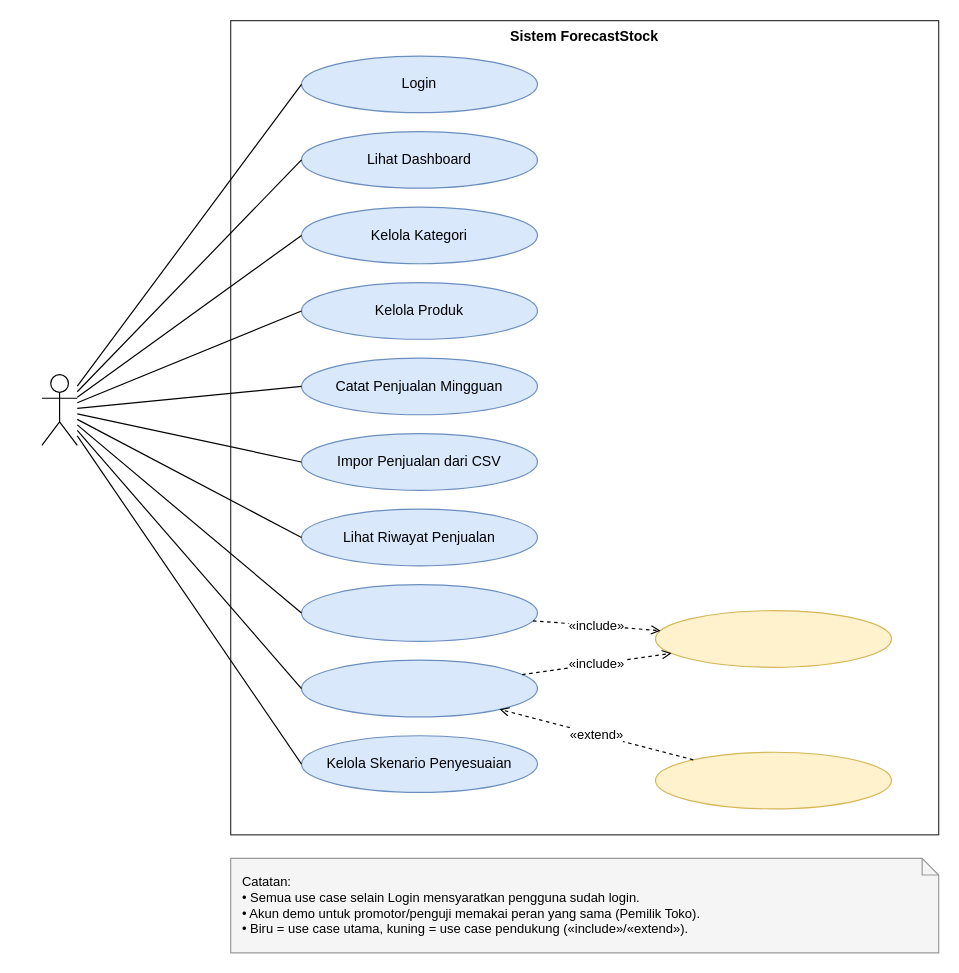
Image size: 959x973. Some labels were removed from this diagram. The box of each missing label's shape, as (x1, y1, x2, y2) in pixels:
Hitung Trend Moment: (654, 609, 891, 667)
Lihat Prediksi Penjualan: (300, 584, 537, 641)
Lihat Rekomendasi Stok: (300, 659, 537, 717)
Pemilik Toko: (41, 373, 77, 445)
Terapkan Skenario Penyesuaian: (654, 751, 891, 809)
